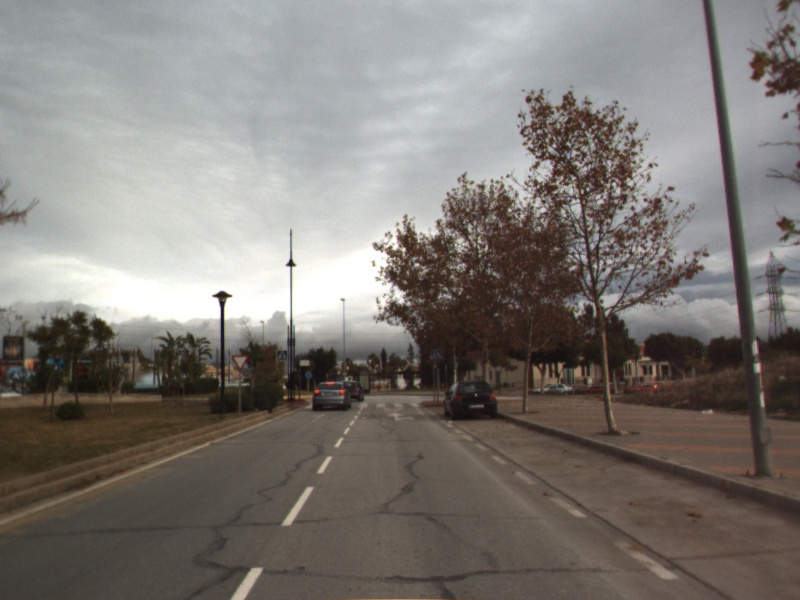STRAIGHT_RIGHT: (385, 410, 416, 423)
